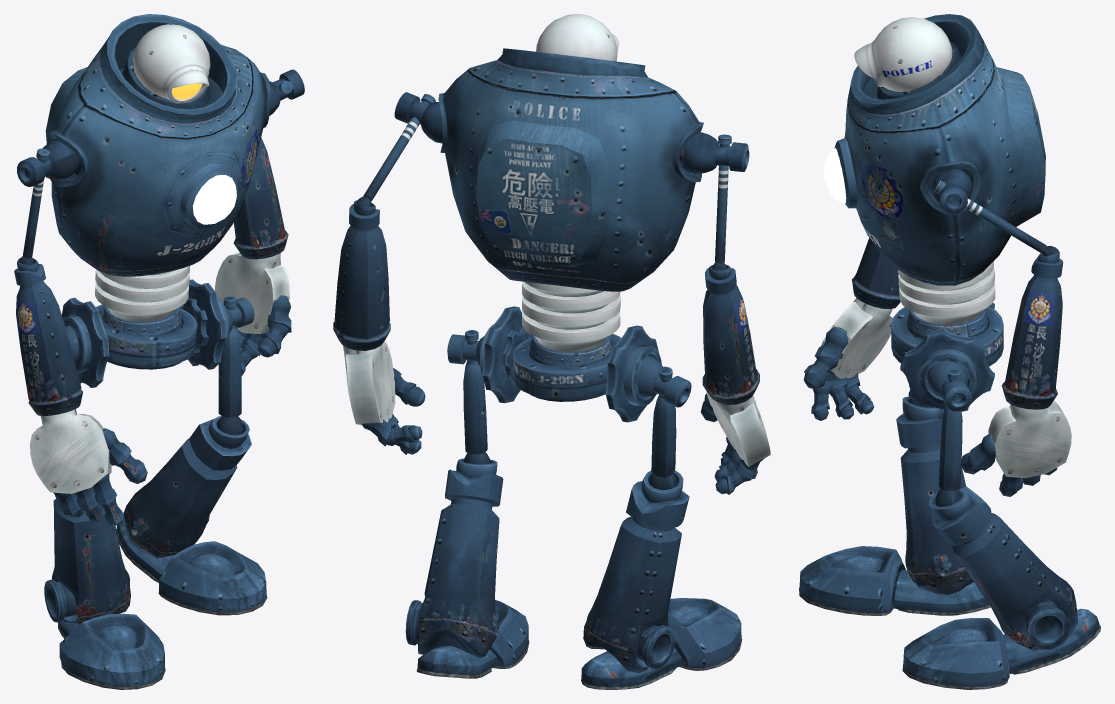
Rendered from robot.glb.
3 views of the same model, side by side, from view 1: azimuth 30°, elevation 25°; view 2: azimuth 150°, elevation 25°; view 3: azimuth 270°, elevation 25° (orthographic). The views are drawn at different scales.
Parts seen in each view (by area): view 1: object_0; view 2: object_0; view 3: object_0.
Boxes of the visible parts, bbox=[...] form: object_0: bbox=[14, 14, 304, 689]; object_0: bbox=[333, 14, 770, 689]; object_0: bbox=[799, 14, 1100, 689].
Size of the model in its own units: 3.74 by 6.46 by 2.88.
4 materials, 1 textured.
